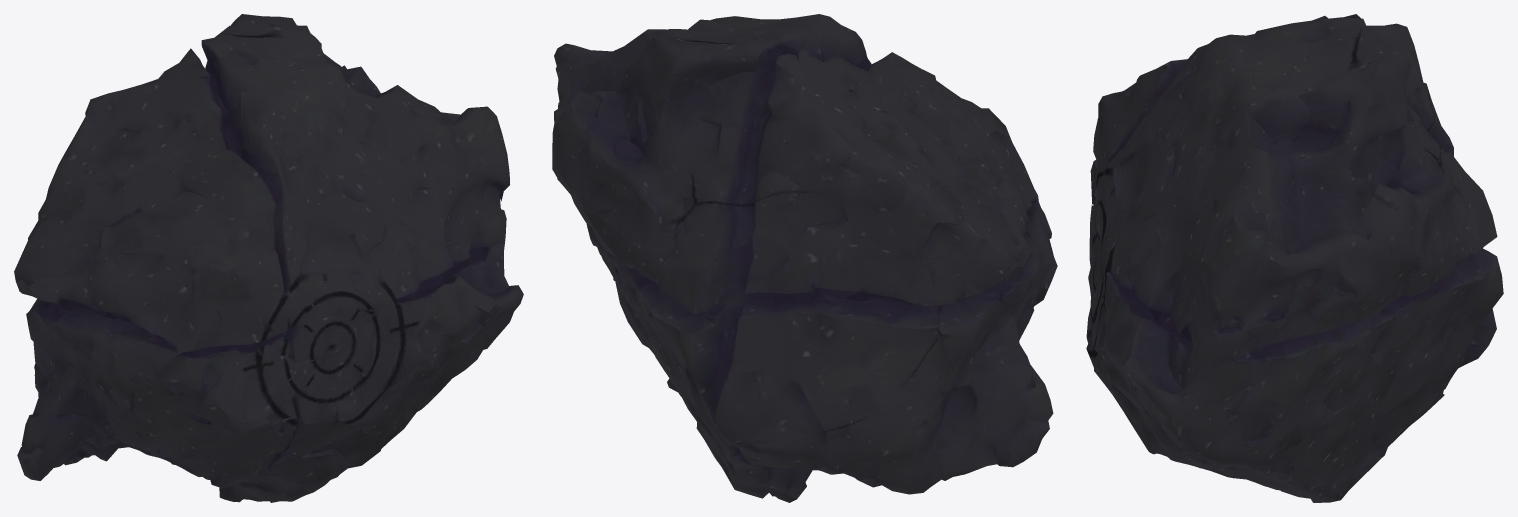
Rendered from rock-rune-fragment.glb.
The picture shows the model from 3 angles, left to right: view 1: azimuth 30°, elevation 25°; view 2: azimuth 150°, elevation 25°; view 3: azimuth 270°, elevation 25°; orthographic projection. The views are drawn at different scales.
Parts seen in each view (by area): view 1: Rock_E_RuneFragment; view 2: Rock_E_RuneFragment; view 3: Rock_E_RuneFragment.
Part boxes in pixels (bbox=[...]): Rock_E_RuneFragment: bbox=[14, 14, 523, 502]; Rock_E_RuneFragment: bbox=[552, 14, 1057, 502]; Rock_E_RuneFragment: bbox=[1086, 14, 1503, 502].
Bounding box in the file's own units: 1.29 × 1.16 × 0.9118.
1 material, 1 textured.
